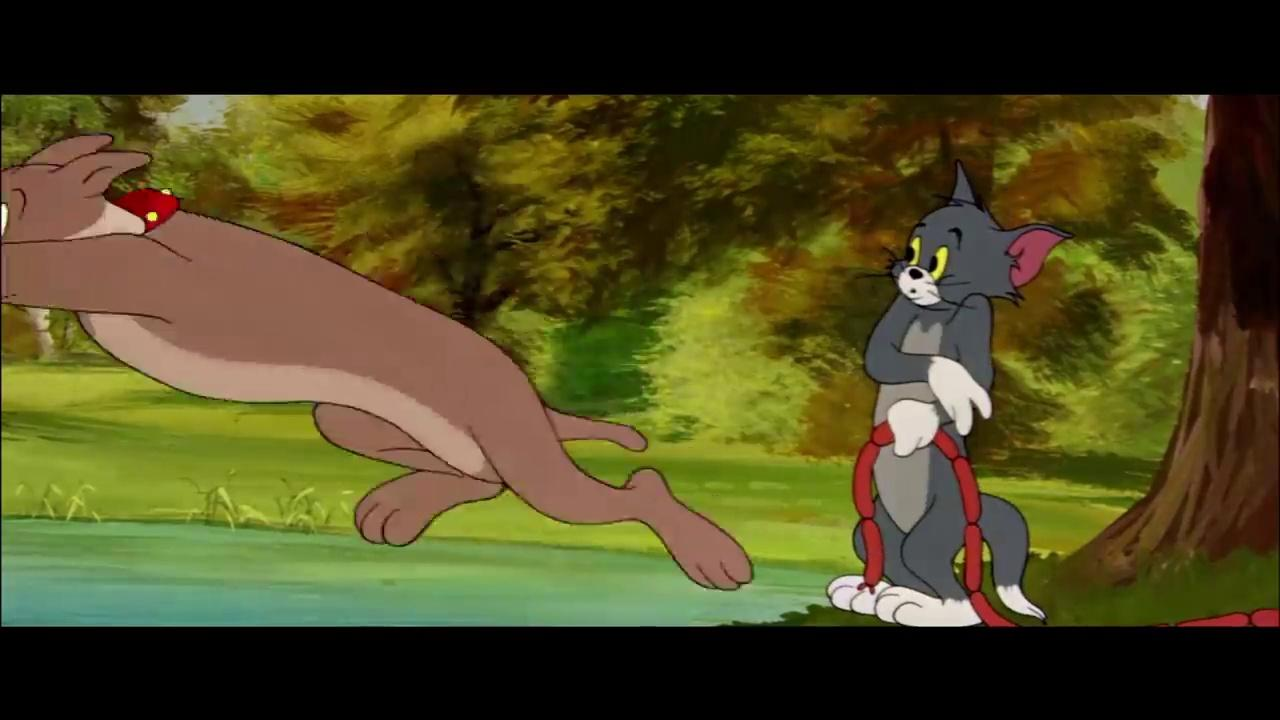Tom: (826, 156, 1076, 626)
